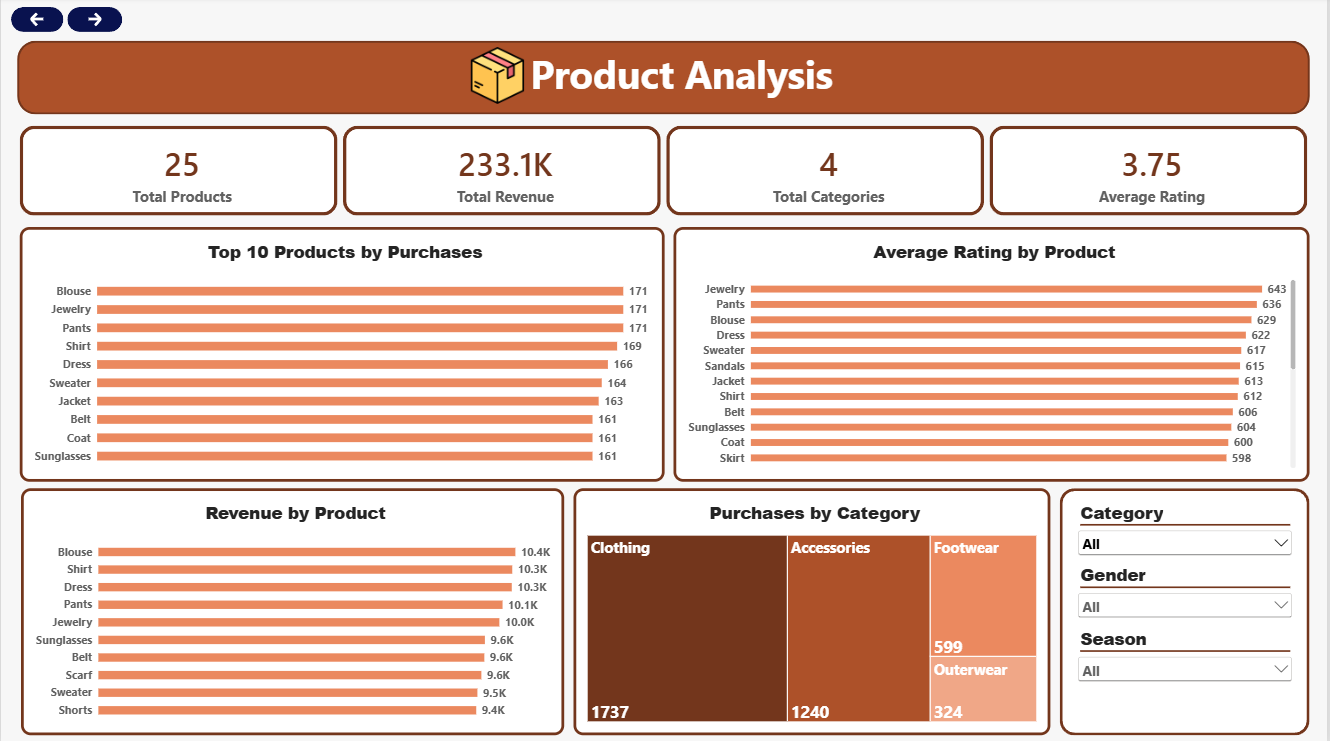

This screenshot's page, from the dashboard's own definition file:
{"tool":"powerbi","page":{"name":"Product Analysis","canvas":[1920,1080],"ordinal":3},"visuals":[{"type":"shape","box":[1533.4,710.4,361.5,357.9],"z":0},{"type":"cardVisual","fields":{"Data":["public customer.Total Products","public customer.Total Product Revenue","public customer.Total Categories","public customer.Average Review Rating"]},"box":[27.3,187.1,1867.7,130.8],"z":1000},{"type":"shape","box":[23.5,63.3,1871.2,106.8],"z":2000},{"type":"textbox","box":[716.6,72.4,537.5,90.5],"z":3000},{"type":"actionButton","box":[14.5,14.5,76,36.2],"z":4000},{"type":"actionButton","box":[95.9,14.5,79.6,36.2],"z":5000},{"type":"barChart","title":"Top 10 Products by Purchases","fields":{"Category":["public customer.item_purchased"],"Y":["public customer.Number of Customers"]},"box":[27.3,332.5,933.8,368.8],"z":6000},{"type":"clusteredBarChart","title":"Revenue by Product","fields":{"Category":["public customer.item_purchased"],"Y":["Sum(public customer.purchase_amount)"]},"box":[29.1,710.4,786.7,357.9],"z":7000},{"type":"clusteredBarChart","title":"Average Rating by Product","fields":{"Category":["public customer.item_purchased"],"Y":["Sum(public customer.review_rating)"]},"box":[973.8,332.5,921.1,368.8],"z":8000},{"type":"treemap","title":"Purchases by Category","fields":{"Group":["public customer.category"],"Values":["public customer.Number of Customers"]},"box":[828.5,710.4,690.4,357.9],"z":9000},{"type":"slicer","fields":{"Values":["public customer.category"]},"box":[1555.2,728.5,319.8,90.8],"z":10000},{"type":"slicer","fields":{"Values":["public customer.gender"]},"box":[1555.2,819.4,319.8,92.7],"z":11000},{"type":"slicer","fields":{"Values":["public customer.season"]},"box":[1555.2,912,319.8,105.4],"z":12000},{"type":"image","box":[661.9,71.9,112.1,82.5],"z":12001}]}

Visuals, with their boxes in screenshot pixels (x1, y1, x2, y2), scaled from the page's 1920x1080 canvas onto the 1330x741 screenshot:
shape: (x1=1062, y1=487, x2=1313, y2=733)
cardVisual - public customer.Total Products x public customer.Total Product Revenue: (x1=19, y1=128, x2=1313, y2=218)
shape: (x1=16, y1=43, x2=1312, y2=117)
textbox: (x1=496, y1=50, x2=869, y2=112)
actionButton: (x1=10, y1=10, x2=63, y2=35)
actionButton: (x1=66, y1=10, x2=122, y2=35)
"Top 10 Products by Purchases" barChart: (x1=19, y1=228, x2=666, y2=481)
"Revenue by Product" clusteredBarChart: (x1=20, y1=487, x2=565, y2=733)
"Average Rating by Product" clusteredBarChart: (x1=675, y1=228, x2=1313, y2=481)
"Purchases by Category" treemap: (x1=574, y1=487, x2=1052, y2=733)
slicer - public customer.category: (x1=1077, y1=500, x2=1299, y2=562)
slicer - public customer.gender: (x1=1077, y1=562, x2=1299, y2=626)
slicer - public customer.season: (x1=1077, y1=626, x2=1299, y2=698)
image: (x1=459, y1=49, x2=536, y2=106)
